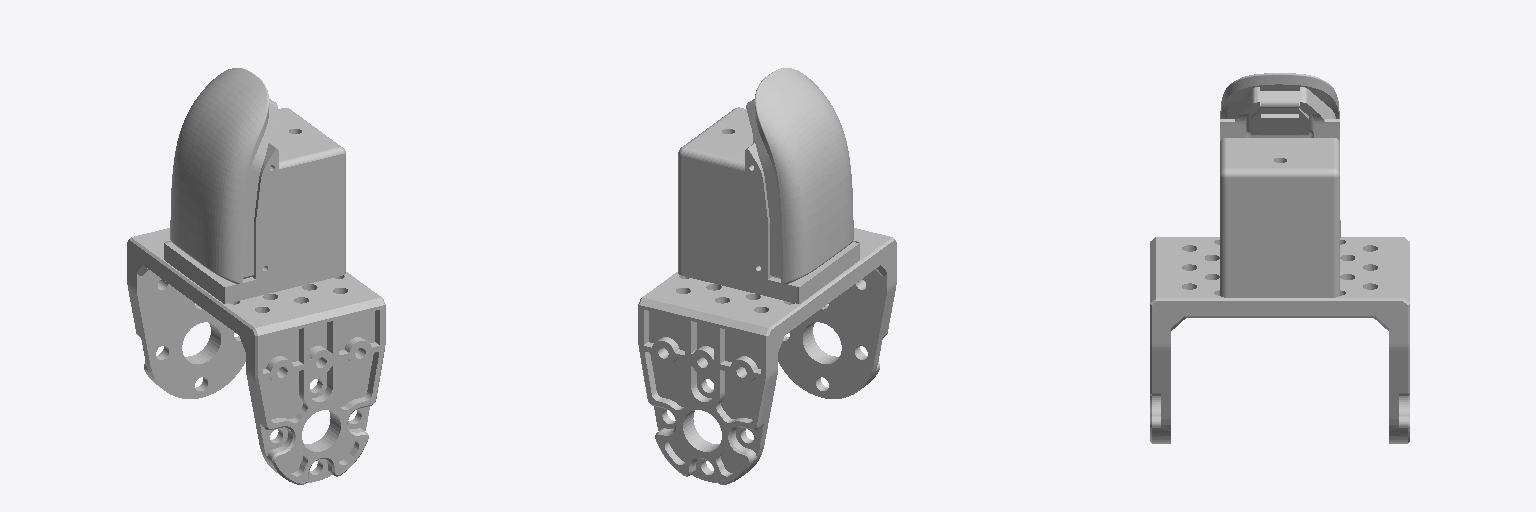
File: fingertip_paxini.obj
3 views of the same model, side by side, from view 1: azimuth 30°, elevation 25°; view 2: azimuth 150°, elevation 25°; view 3: azimuth 270°, elevation 25° (orthographic).
Visible parts, largest first — view 1: zhijian_new_with_support; view 2: zhijian_new_with_support; view 3: zhijian_new_with_support.
Part boxes in pixels (bbox=[...]): zhijian_new_with_support: bbox=[127, 68, 385, 484]; zhijian_new_with_support: bbox=[638, 68, 896, 484]; zhijian_new_with_support: bbox=[1150, 73, 1409, 443].
Size of the model in its own units: 0.0201 by 0.0533 by 0.0346.